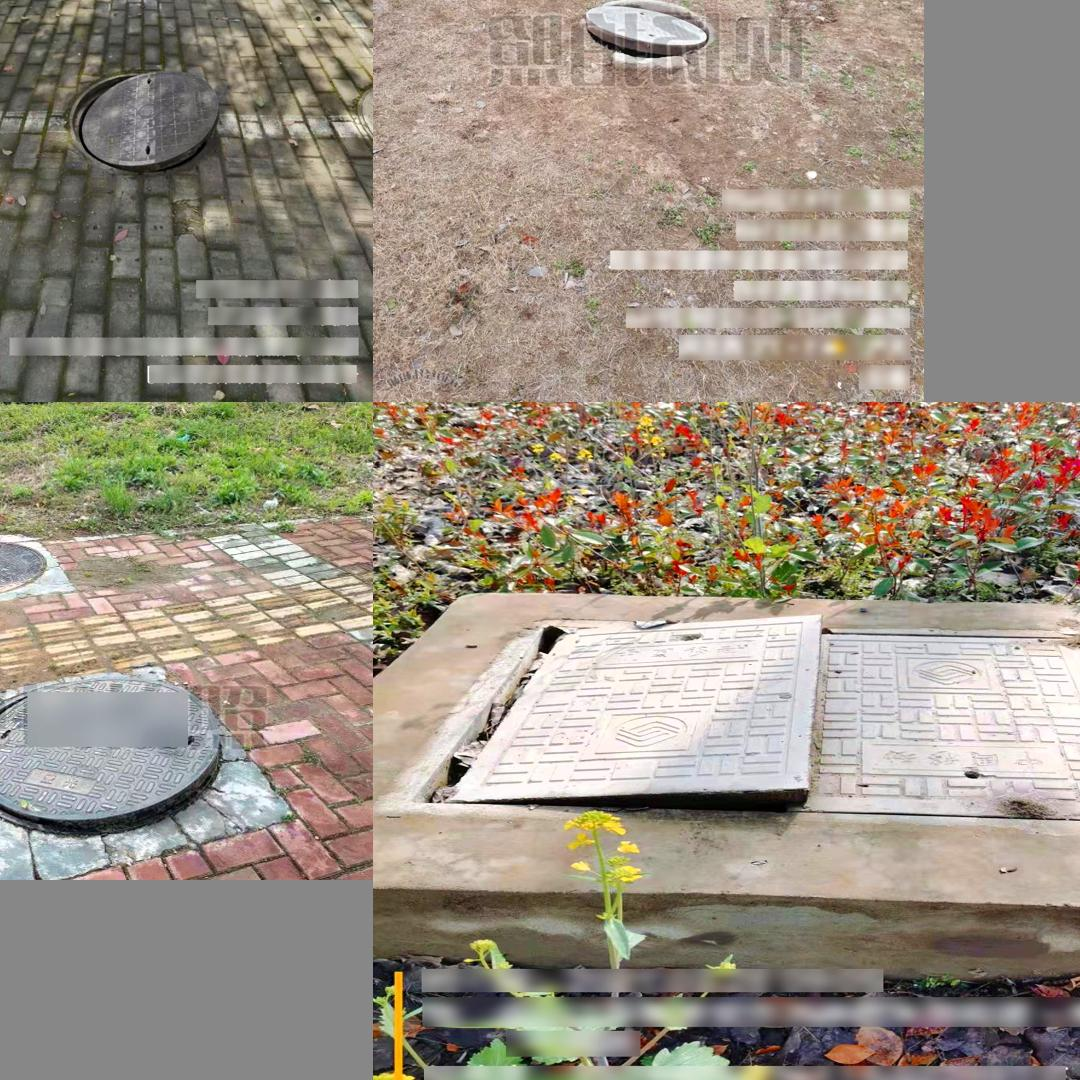good: (0, 541, 46, 596)
uncovered: (374, 612, 1080, 833), (0, 677, 224, 836), (69, 69, 219, 173), (582, 0, 712, 60)
